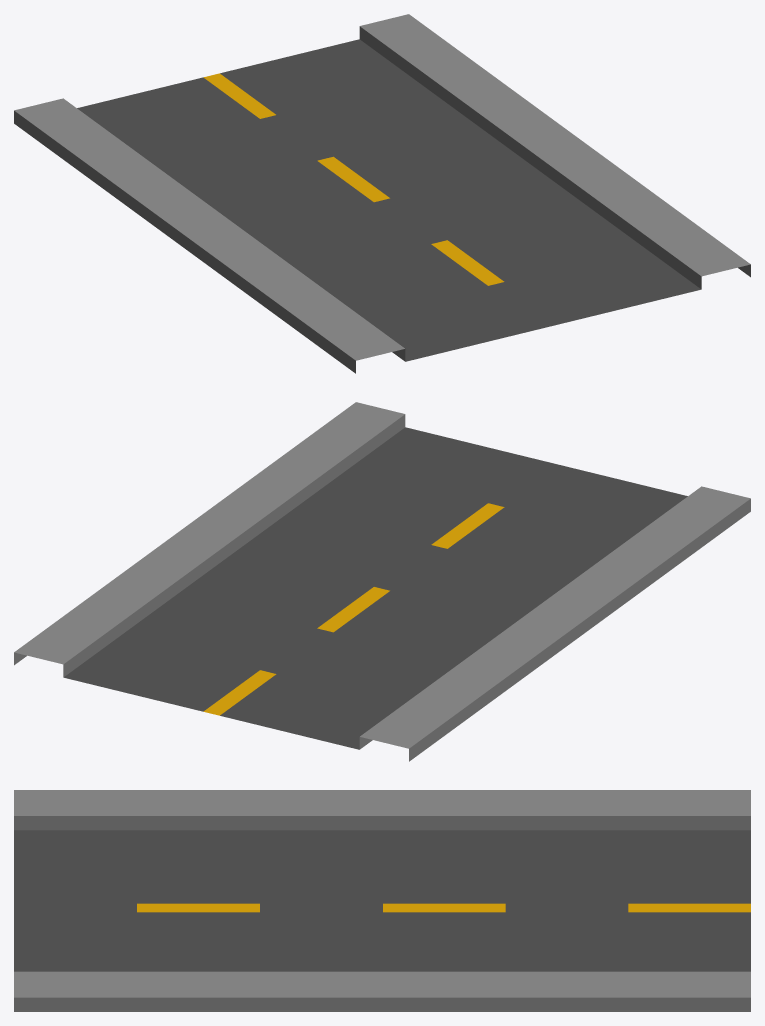
File: straightRoad.glb
3 views of the same model, one above another, from view 1: azimuth 30°, elevation 25°; view 2: azimuth 150°, elevation 25°; view 3: azimuth 270°, elevation 25° (orthographic). The views are drawn at different scales.
Parts seen in each view (by area): view 1: straight road; view 2: straight road; view 3: straight road.
Boxes of the visible parts, box(x1,y1,x2,y2) form: straight road: box(14, 14, 750, 373); straight road: box(14, 402, 750, 761); straight road: box(14, 790, 750, 1011).
Bounding box in the file's own units: 18.79 × 0.5971 × 28.18.
